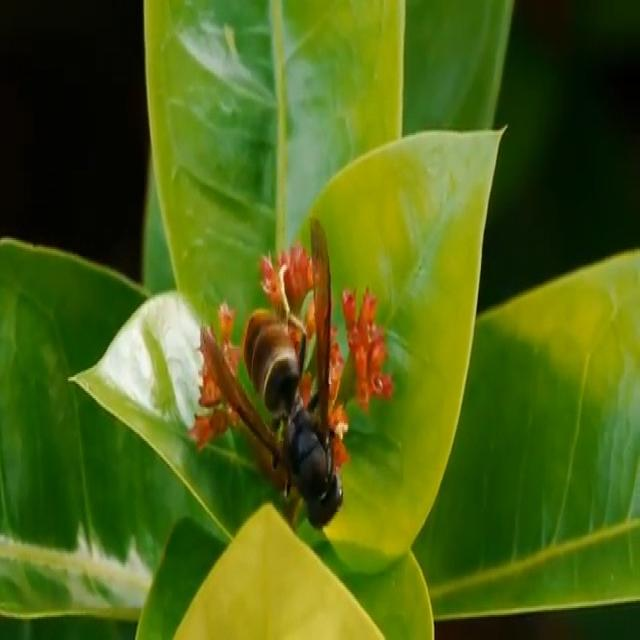Hornets: (200, 215, 346, 537)
